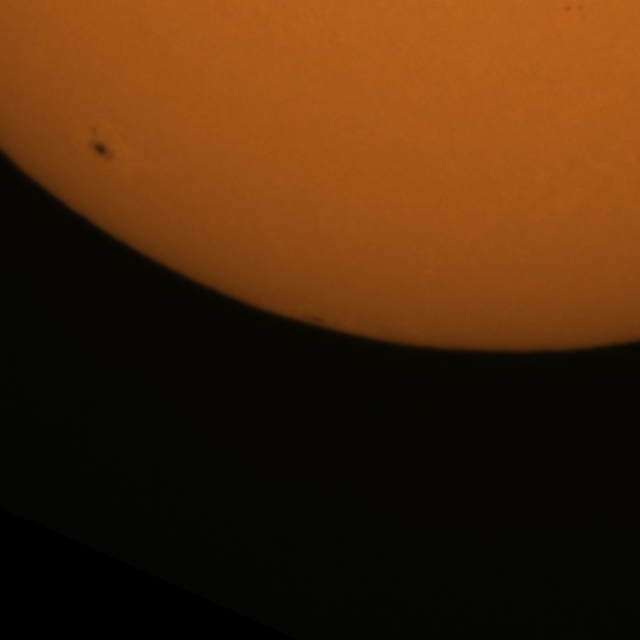sunspot: (86, 126, 115, 163), (561, 1, 585, 15)
